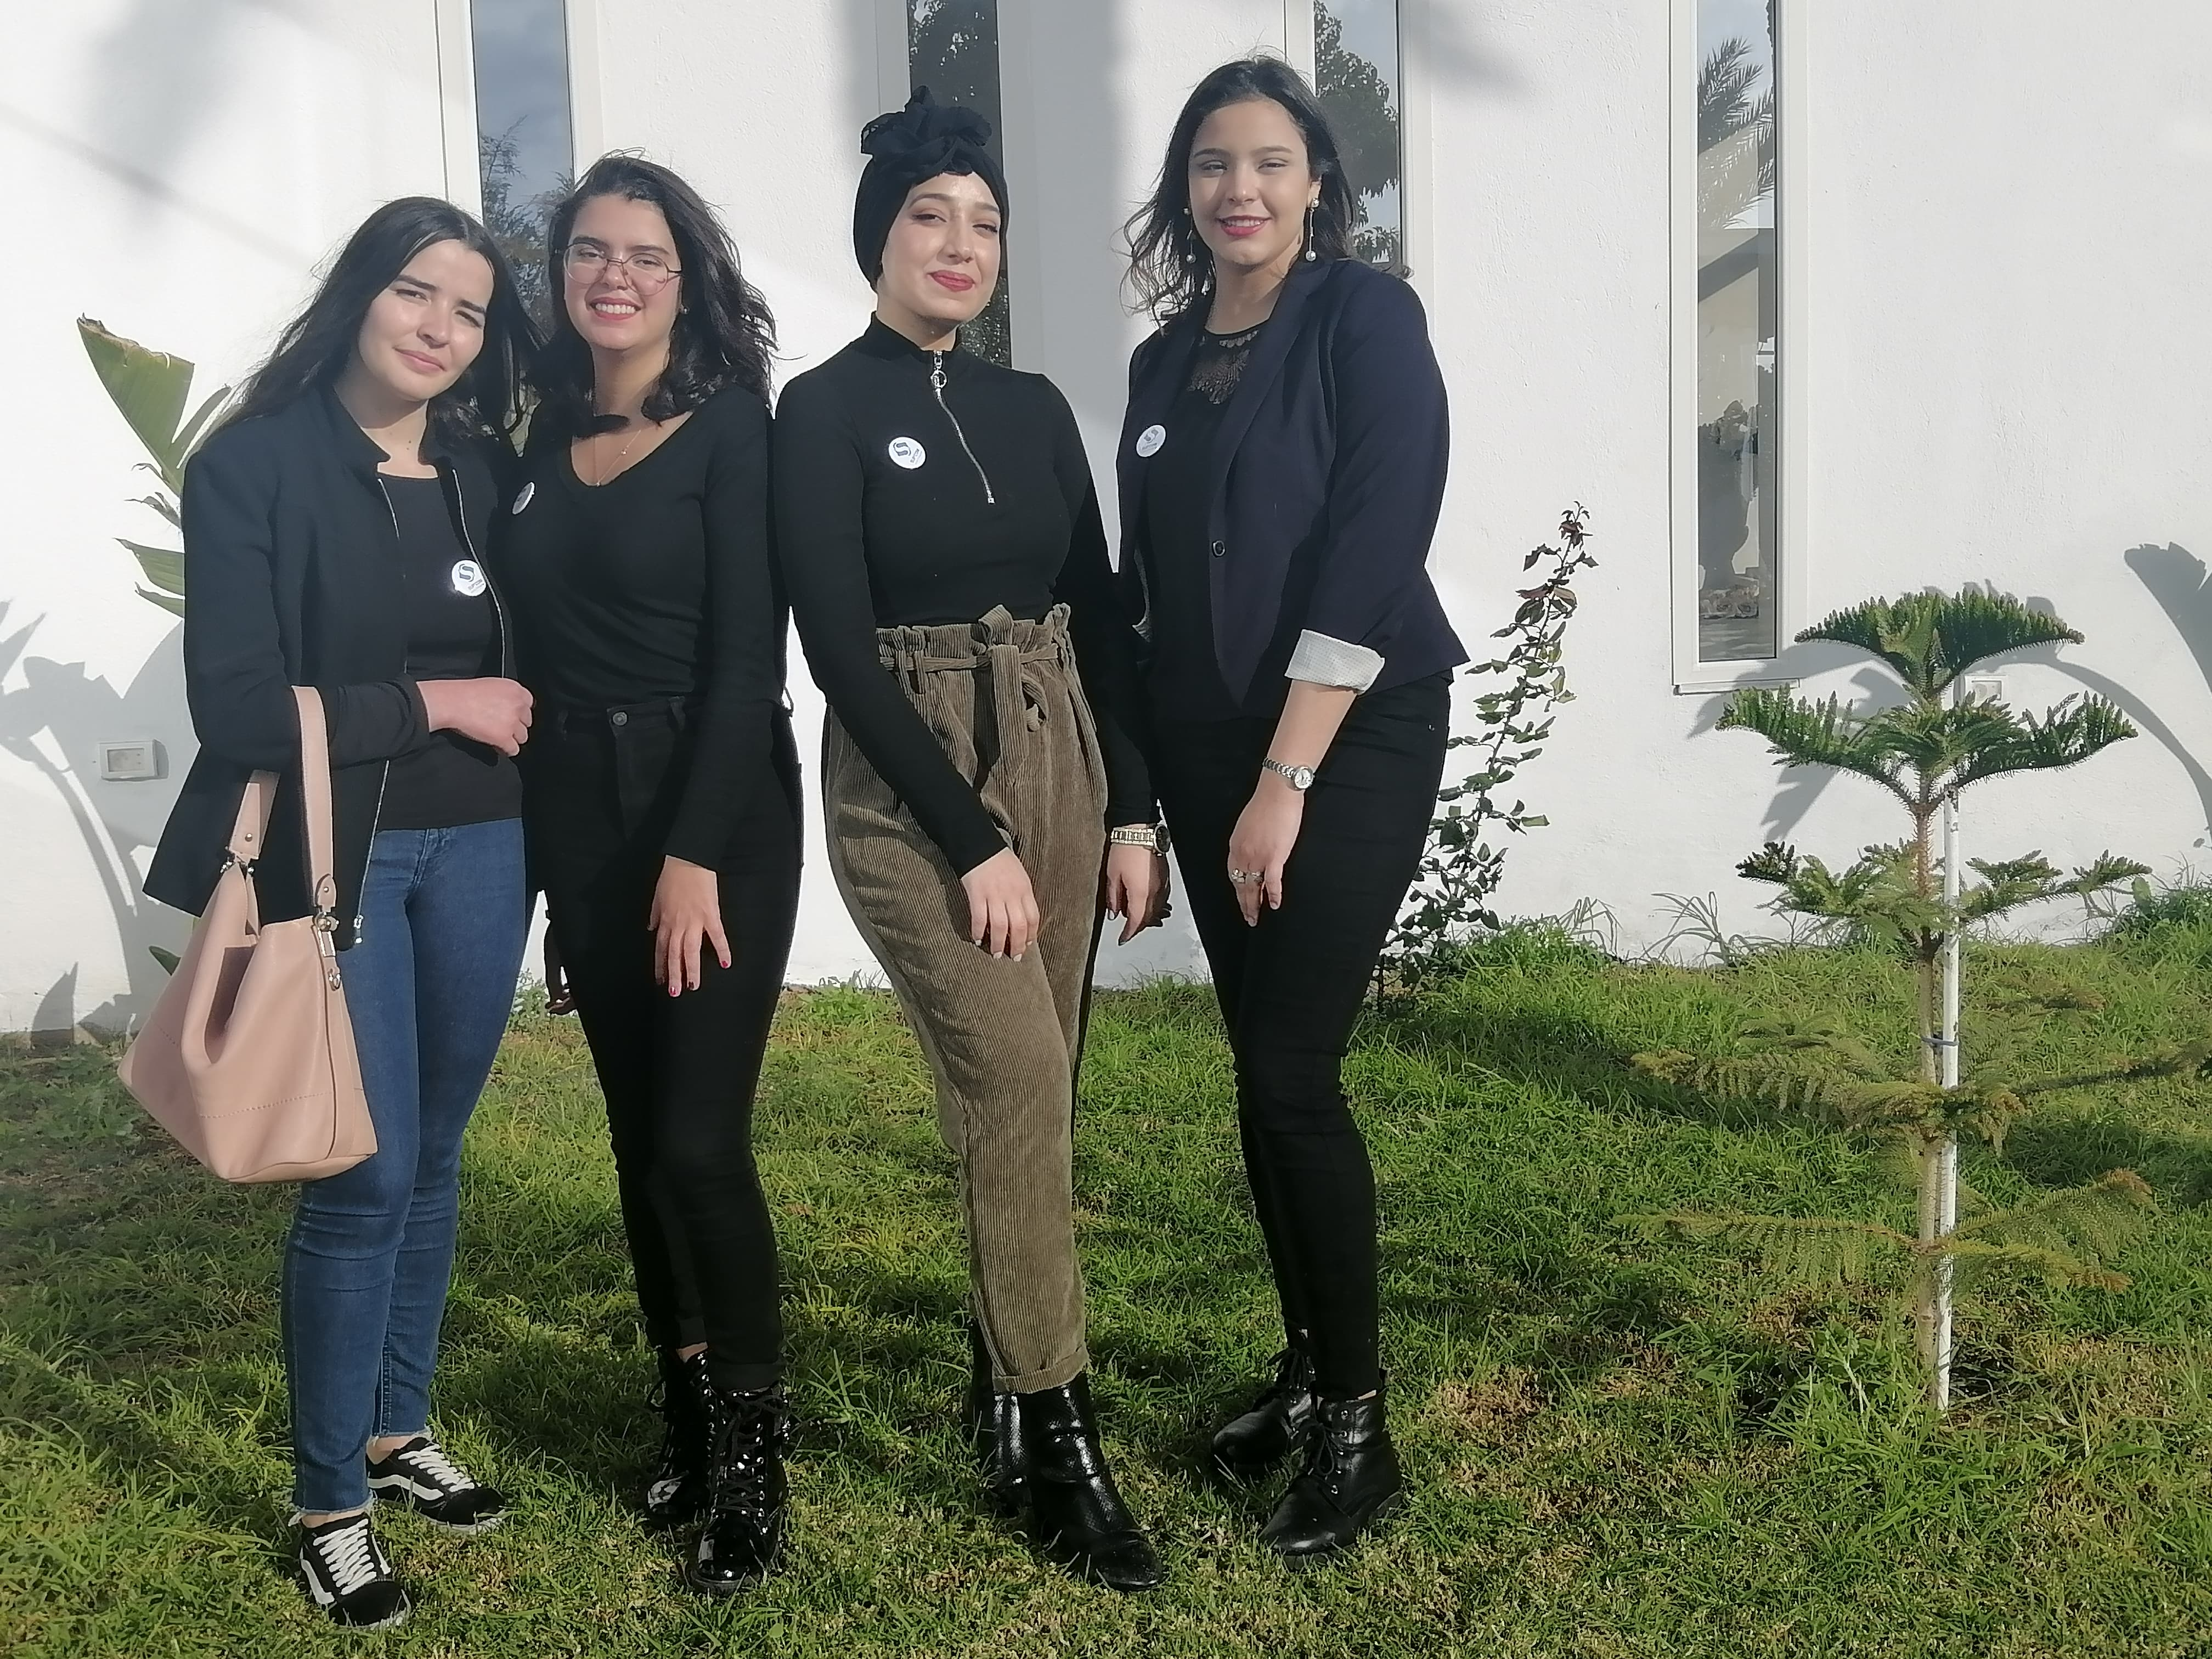without_mask: (363, 274, 488, 403), (890, 190, 1012, 314), (1187, 134, 1310, 247), (557, 229, 673, 339)
